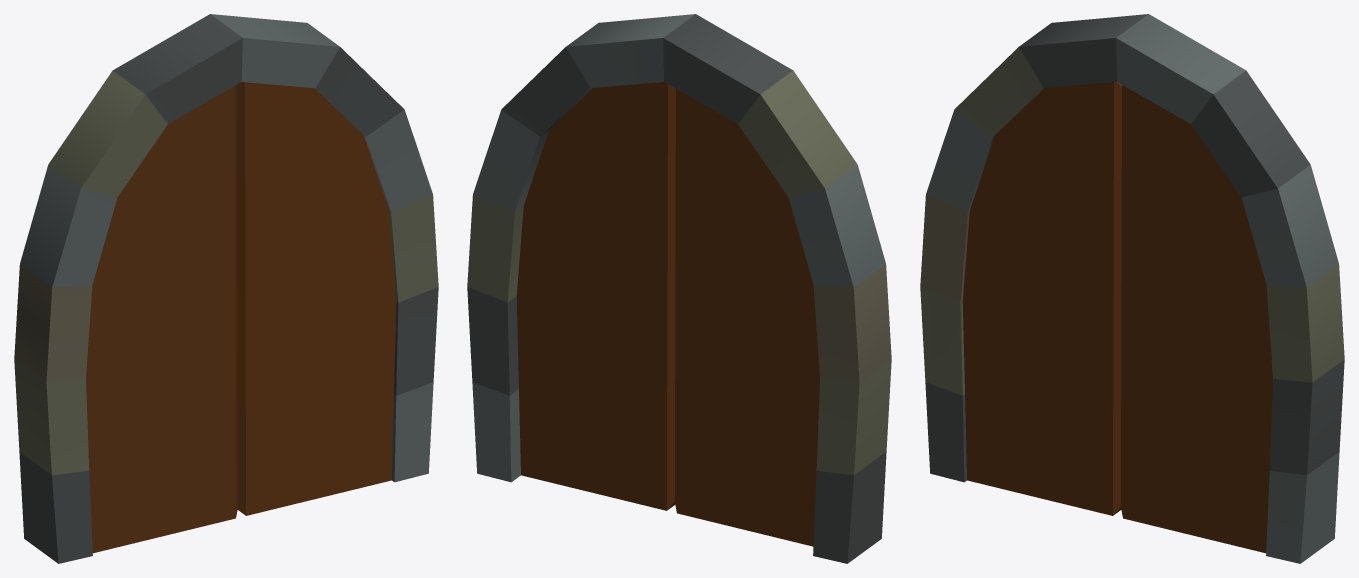
File: Door.glb
3 renders of one model, left to right at view 1: azimuth 30°, elevation 25°; view 2: azimuth 150°, elevation 25°; view 3: azimuth 330°, elevation 25°, orthographic.
Parts seen in each view (by area): view 1: Stone_Arch, Door_1, Door_2; view 2: Stone_Arch, Door_1, Door_2; view 3: Stone_Arch, Door_2, Door_1.
Boxes of the visible parts, x1,y1,x2,y2 form: Stone_Arch: (14, 14, 438, 563); Door_1: (236, 82, 396, 515); Door_2: (86, 85, 237, 553); Stone_Arch: (467, 14, 891, 563); Door_1: (516, 82, 675, 510); Door_2: (674, 89, 819, 546); Stone_Arch: (920, 14, 1344, 563); Door_2: (962, 82, 1122, 515); Door_1: (1121, 85, 1272, 553).
Size of the model in its own units: 0.8085 by 0.9466 by 0.1233.
